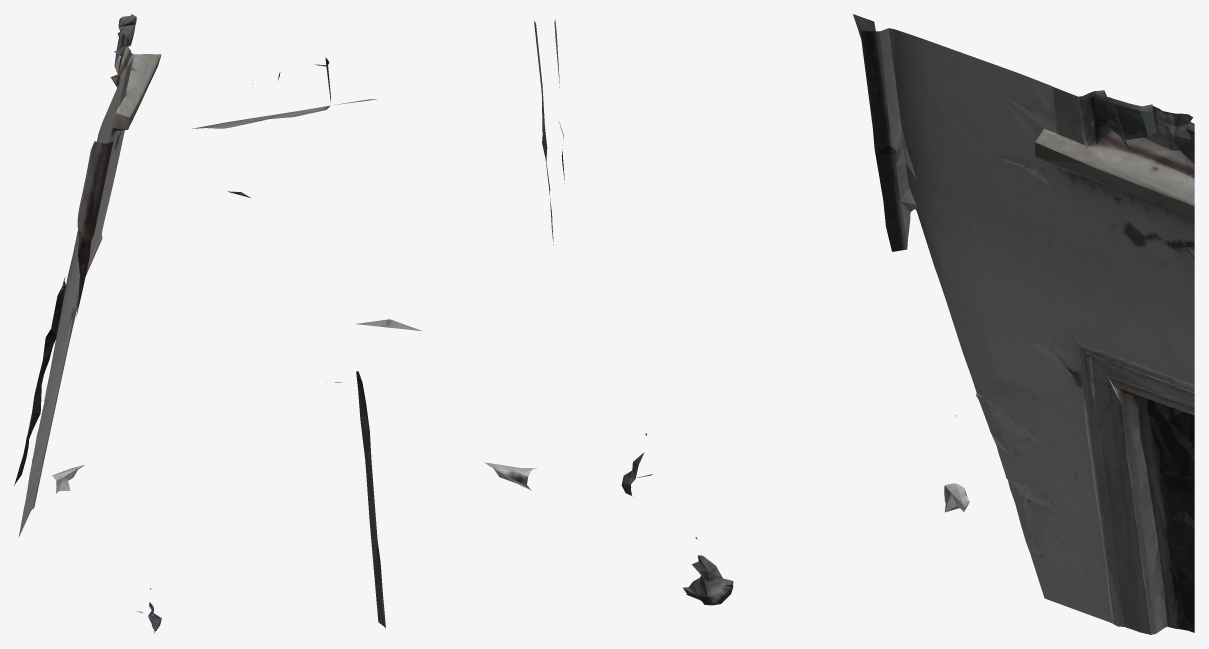
The picture shows the model from 3 angles, left to right: view 1: azimuth 30°, elevation 25°; view 2: azimuth 150°, elevation 25°; view 3: azimuth 270°, elevation 25°; orthographic projection. The views are drawn at different scales.
Bounding box in the file's own units: 1.59 × 3.35 × 2.66.
Materials: 2 (2 with a texture image).
